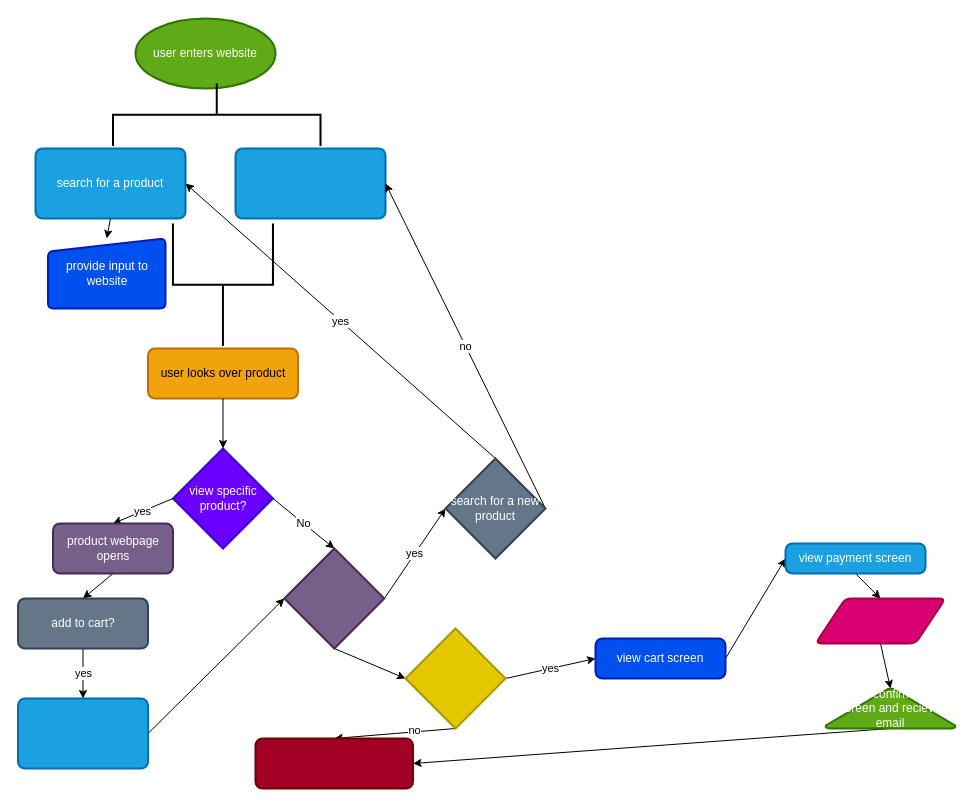
Image size: 974x806. Some labels were removed from this diagram. The centre of each missing label's shape, as x and y in pixels:
"checkout?" belongs at point (455, 678).
"continue shopping?" belongs at point (334, 598).
"explore products on homepage" belongs at point (310, 183).
"input payment information" belongs at point (880, 620).
"leave website" belongs at point (334, 763).
"recieve added to cart confirmation" belongs at point (82, 733).
